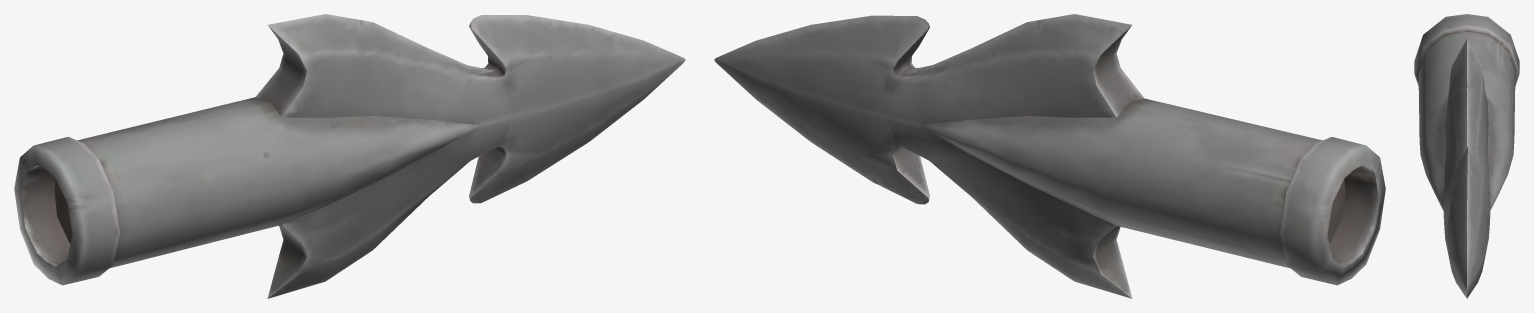
The picture shows the model from 3 angles, left to right: view 1: azimuth 30°, elevation 25°; view 2: azimuth 150°, elevation 25°; view 3: azimuth 270°, elevation 25°; orthographic projection. The views are drawn at different scales.
Visible parts, largest first — view 1: SM_BroadheadArrowHead_Iron_01_LOD0; view 2: SM_BroadheadArrowHead_Iron_01_LOD0; view 3: SM_BroadheadArrowHead_Iron_01_LOD0.
Boxes of the visible parts, left/top/right/bottom form: SM_BroadheadArrowHead_Iron_01_LOD0: left=14, top=14, right=685, bottom=298; SM_BroadheadArrowHead_Iron_01_LOD0: left=714, top=14, right=1385, bottom=298; SM_BroadheadArrowHead_Iron_01_LOD0: left=1414, top=14, right=1519, bottom=298.
Size of the model in its own units: 0.1626 by 0.0666 by 0.0315.
Materials: 1 (1 with a texture image).
